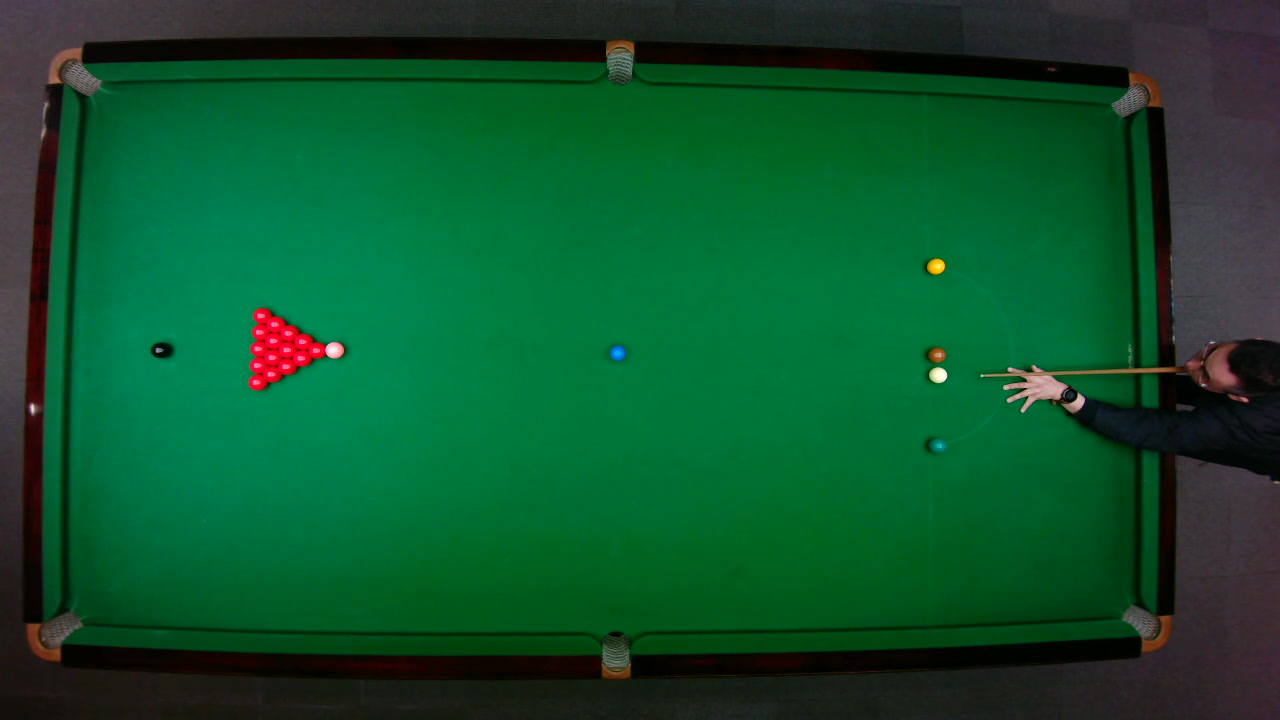bag: (25, 609, 84, 661), (45, 46, 102, 96), (1119, 603, 1171, 652), (1108, 71, 1162, 118), (601, 629, 630, 680), (605, 38, 633, 85)
black: (149, 340, 171, 358)
blue: (608, 343, 626, 361)
brown: (926, 346, 946, 362)
cue: (979, 365, 1189, 381)
green: (926, 436, 946, 453)
pink: (323, 340, 345, 359)
red: (251, 306, 274, 325), (293, 333, 315, 351), (308, 340, 327, 359), (291, 349, 312, 366), (277, 359, 298, 376), (247, 374, 268, 391), (280, 325, 301, 342), (248, 357, 268, 374), (248, 341, 269, 357), (267, 316, 286, 333), (279, 342, 298, 359), (265, 333, 284, 350), (250, 325, 270, 341), (262, 367, 282, 383), (263, 350, 282, 366)
white: (927, 365, 947, 383)
yellow: (925, 257, 946, 274)
zone: (925, 264, 1013, 445)
